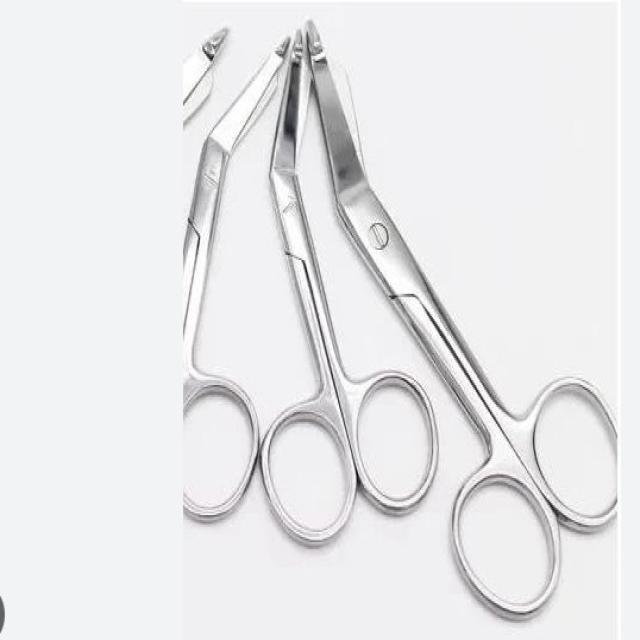Bandage Sciccors: (302, 16, 620, 613), (256, 21, 436, 548)
